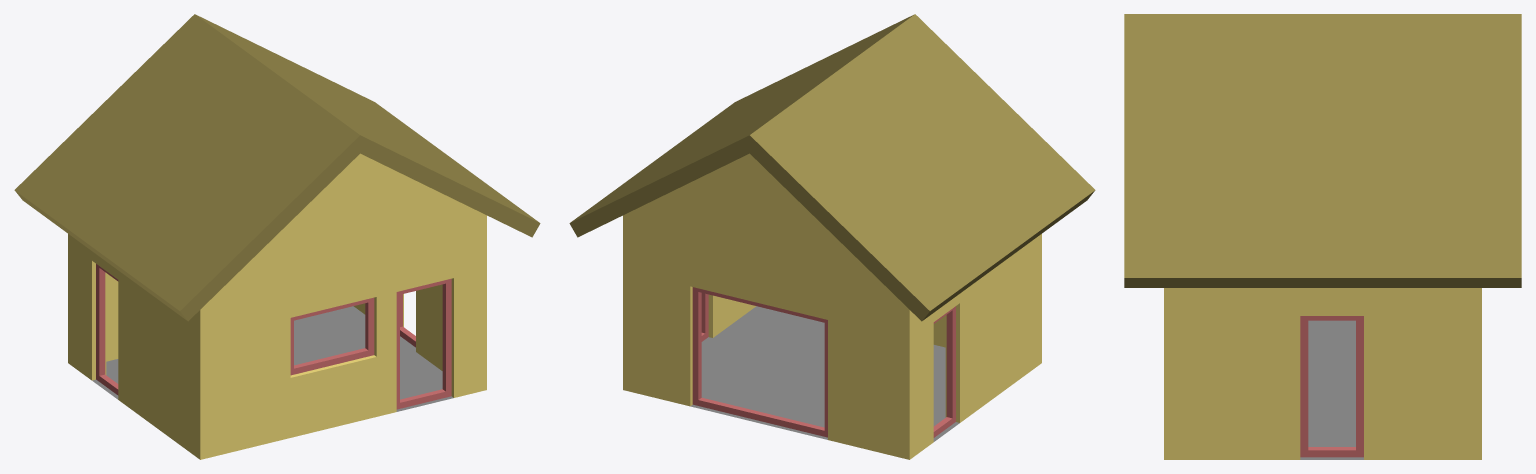
File: result.glb
3 views of the same model, side by side, from view 1: azimuth 30°, elevation 25°; view 2: azimuth 150°, elevation 25°; view 3: azimuth 270°, elevation 25° (orthographic). The views are drawn at different scales.
Parts seen in each view (by area): view 1: 03386b8e-6fcc-4b1c-a3d7-17c166f8ee1b__undefined, 50e15f11-8341-476e-bf90-b4ce0f23754c__undefined (×2), 270075cb-8df7-4c67-9096-0acac729a998__Plane_8, f23d4eb8-4619-4b0b-a1a3-0f4afbf35ab4__Box, 1b588b55-6a09-4c53-9fbc-55f1e435a74d__Box_3, 5088c44d-dde7-4735-b5e4-615903a39eb2__Box_12; view 2: 50e15f11-8341-476e-bf90-b4ce0f23754c__undefined (×2), 03386b8e-6fcc-4b1c-a3d7-17c166f8ee1b__undefined, 270075cb-8df7-4c67-9096-0acac729a998__Plane_8, 9b9a1c9b-4337-4aa6-9943-1f896a92469b__Box_9, 5088c44d-dde7-4735-b5e4-615903a39eb2__Box_12; view 3: 50e15f11-8341-476e-bf90-b4ce0f23754c__undefined, 03386b8e-6fcc-4b1c-a3d7-17c166f8ee1b__undefined, 270075cb-8df7-4c67-9096-0acac729a998__Plane_8, d21ef55f-d2a1-4542-bec2-60e7739cb0c0__Box_18.
Boxes of the visible parts, bbox=[...] form: 03386b8e-6fcc-4b1c-a3d7-17c166f8ee1b__undefined: bbox=[68, 153, 486, 459]; 50e15f11-8341-476e-bf90-b4ce0f23754c__undefined (×2): bbox=[14, 14, 540, 321]; 270075cb-8df7-4c67-9096-0acac729a998__Plane_8: bbox=[92, 306, 453, 411]; f23d4eb8-4619-4b0b-a1a3-0f4afbf35ab4__Box: bbox=[396, 278, 451, 409]; 1b588b55-6a09-4c53-9fbc-55f1e435a74d__Box_3: bbox=[290, 297, 374, 375]; 5088c44d-dde7-4735-b5e4-615903a39eb2__Box_12: bbox=[96, 264, 118, 395]; 50e15f11-8341-476e-bf90-b4ce0f23754c__undefined (×2): bbox=[569, 14, 1095, 321]; 03386b8e-6fcc-4b1c-a3d7-17c166f8ee1b__undefined: bbox=[623, 153, 1041, 459]; 270075cb-8df7-4c67-9096-0acac729a998__Plane_8: bbox=[690, 306, 959, 441]; 9b9a1c9b-4337-4aa6-9943-1f896a92469b__Box_9: bbox=[692, 287, 827, 437]; 5088c44d-dde7-4735-b5e4-615903a39eb2__Box_12: bbox=[933, 306, 955, 437]; 50e15f11-8341-476e-bf90-b4ce0f23754c__undefined: bbox=[1124, 14, 1521, 287]; 03386b8e-6fcc-4b1c-a3d7-17c166f8ee1b__undefined: bbox=[1164, 288, 1481, 459]; 270075cb-8df7-4c67-9096-0acac729a998__Plane_8: bbox=[1300, 320, 1363, 459]; d21ef55f-d2a1-4542-bec2-60e7739cb0c0__Box_18: bbox=[1300, 316, 1363, 457].
Bounding box in the file's own units: 629 × 503 × 500.
